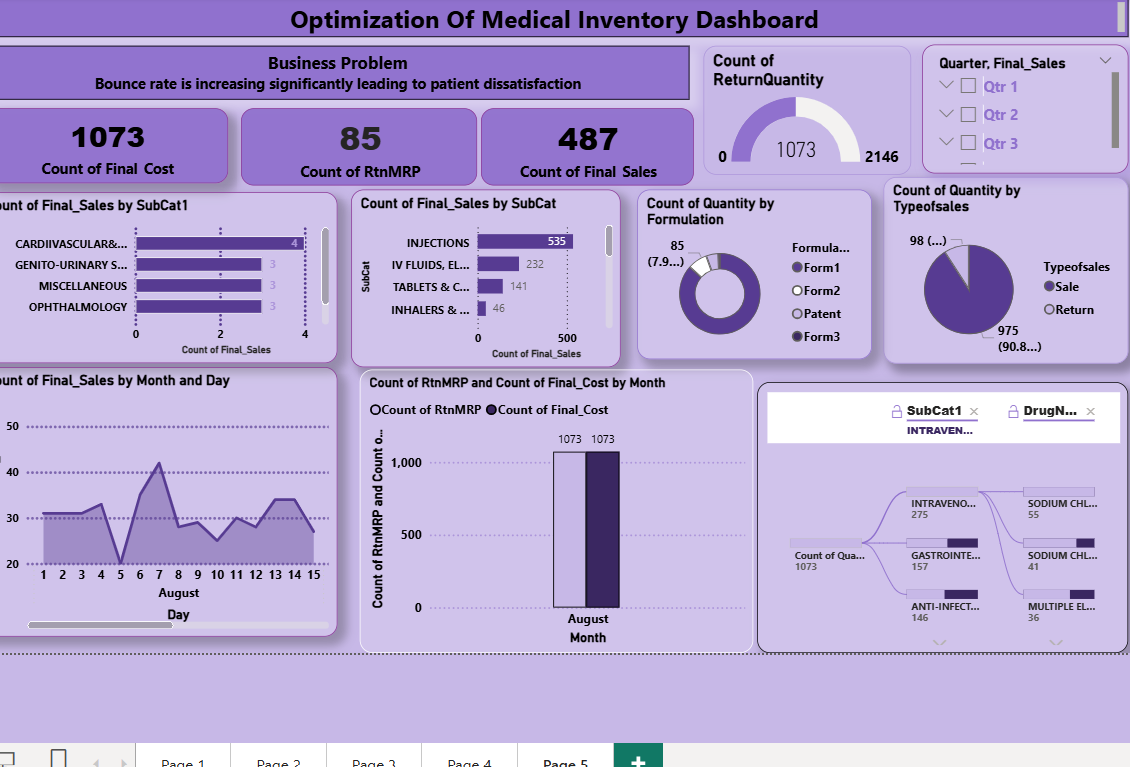

The page's visual inventory and layout, read from the dashboard file:
{"tool":"powerbi","page":{"name":"Page 1","canvas":[1280,1320],"ordinal":0},"visuals":[{"type":"textbox","box":[40.6,8.6,1209.8,55.4],"z":0},{"type":"clusteredBarChart","fields":{"Category":["Projectfinaldata (1).SubCat"],"Y":["CountNonNull(Projectfinaldata (1).Final_Sales)"]},"box":[497.1,336,428.6,291.4],"z":1000},{"type":"clusteredBarChart","fields":{"Y":["CountNonNull(Projectfinaldata (1).Final_Sales)"],"Category":["Projectfinaldata (1).SubCat1"]},"box":[29.1,336,445.7,291.4],"z":2000},{"type":"areaChart","fields":{"Y":["CountNonNull(Projectfinaldata (1).Final_Sales)"],"Category":["Projectfinaldata (1).Dateofbill.Variation.Date Hierarchy.Month","Projectfinaldata (1).Dateofbill.Variation.Date Hierarchy.Day"]},"box":[29,651.9,723.3,328.2],"z":3000},{"type":"slicer","fields":{"Values":["Projectfinaldata (1).Dateofbill.Variation.Date Hierarchy.Quarter","Projectfinaldata (1).Final_Sales"]},"box":[1025.1,75.4,226.3,238.3],"z":4000},{"type":"pieChart","fields":{"Category":["Projectfinaldata (1).Typeofsales"],"Y":["CountNonNull(Projectfinaldata (1).Quantity)"]},"box":[949.7,336,313.7,291.4],"z":5000},{"type":"donutChart","fields":{"Category":["Projectfinaldata (1).Formulation"],"Y":["CountNonNull(Projectfinaldata (1).Quantity)"]},"box":[781.4,651.9,471.1,328.2],"z":6000},{"type":"card","fields":{"Values":["CountNonNull(Projectfinaldata (1).Final_Cost)"]},"box":[41.1,181.7,231.4,132],"z":7000},{"type":"card","fields":{"Values":["Count(Projectfinaldata (1).Final_Sales)"]},"box":[540,185.1,212.6,130.3],"z":8000},{"type":"card","fields":{"Values":["Count(Projectfinaldata (1).RtnMRP)"]},"box":[293.1,185.1,226.3,130.3],"z":9000},{"type":"textbox","box":[28.8,75.2,710,88.5],"z":10000},{"type":"gauge","fields":{"Y":["CountNonNull(Projectfinaldata (1).ReturnQuantity)"]},"box":[781.7,80.6,228,234.9],"z":11000},{"type":"clusteredColumnChart","fields":{"Category":["Projectfinaldata (1).Dateofbill.Variation.Date Hierarchy.Month","Projectfinaldata (1).Dateofbill.Variation.Date Hierarchy.Day"],"Y":["CountNonNull(Projectfinaldata (1).RtnMRP)","CountNonNull(Projectfinaldata (1).Final_Cost)"]},"box":[35.7,991.3,540.3,305.9],"z":12000},{"type":"decompositionTreeVisual","fields":{"Analyze":["CountNonNull(Projectfinaldata (1).Quantity)"],"ExplainBy":["Projectfinaldata (1).SubCat1","Projectfinaldata (1).DrugName"]},"box":[609.4,990.6,640.6,306.2],"z":13000}]}

Visuals, with their boxes on the page's 1280x1320 design canvas (x1, y1, x2, y2). These are canvas units, not pixel positions in the 1130x767 screenshot, which may show the page scaled, cropped or inside an application window:
textbox: [41,9,1250,64]
clusteredBarChart - Projectfinaldata (1).SubCat x CountNonNull(Projectfinaldata (1).Final_Sales): [497,336,926,627]
clusteredBarChart - CountNonNull(Projectfinaldata (1).Final_Sales) x Projectfinaldata (1).SubCat1: [29,336,475,627]
areaChart - CountNonNull(Projectfinaldata (1).Final_Sales) x Projectfinaldata (1).Dateofbill.Variation.Date Hierarchy.Month: [29,652,752,980]
slicer - Projectfinaldata (1).Dateofbill.Variation.Date Hierarchy.Quarter x Projectfinaldata (1).Final_Sales: [1025,75,1251,314]
pieChart - Projectfinaldata (1).Typeofsales x CountNonNull(Projectfinaldata (1).Quantity): [950,336,1263,627]
donutChart - Projectfinaldata (1).Formulation x CountNonNull(Projectfinaldata (1).Quantity): [781,652,1252,980]
card - CountNonNull(Projectfinaldata (1).Final_Cost): [41,182,272,314]
card - Count(Projectfinaldata (1).Final_Sales): [540,185,753,315]
card - Count(Projectfinaldata (1).RtnMRP): [293,185,519,315]
textbox: [29,75,739,164]
gauge - CountNonNull(Projectfinaldata (1).ReturnQuantity): [782,81,1010,316]
clusteredColumnChart - Projectfinaldata (1).Dateofbill.Variation.Date Hierarchy.Month x Projectfinaldata (1).Dateofbill.Variation.Date Hierarchy.Day: [36,991,576,1297]
decompositionTreeVisual - CountNonNull(Projectfinaldata (1).Quantity) x Projectfinaldata (1).SubCat1: [609,991,1250,1297]
